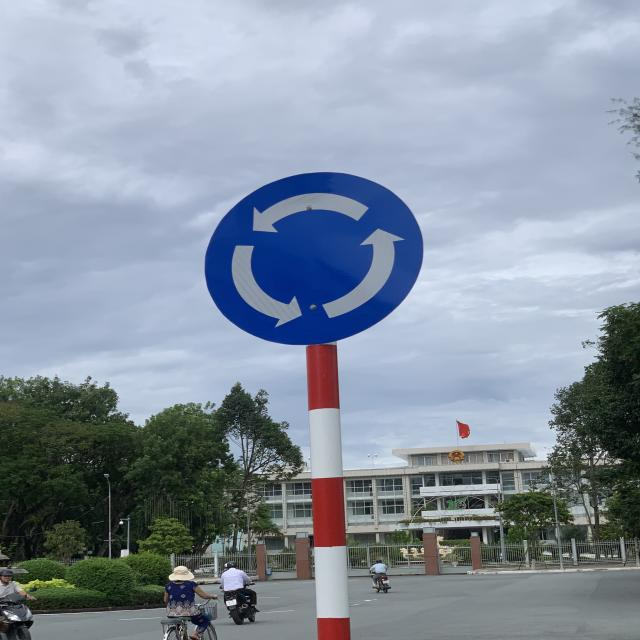Xe_Bus: (205, 169, 428, 345)
